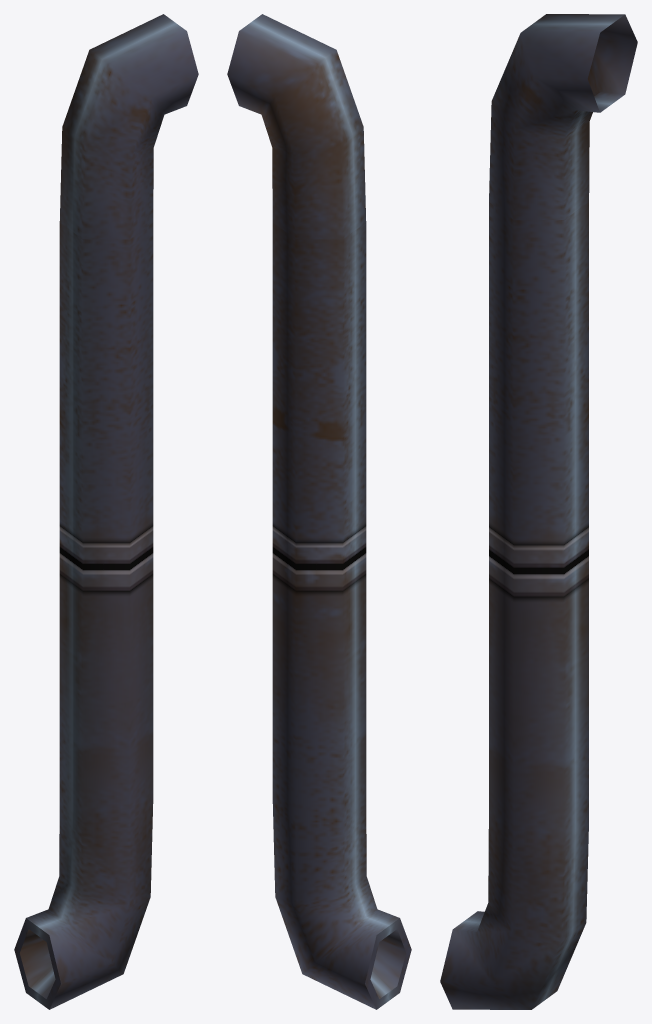
The model's file is rainwaterPipe_3m.fbx.
The picture shows the model from 3 angles, left to right: view 1: azimuth 30°, elevation 25°; view 2: azimuth 150°, elevation 25°; view 3: azimuth 330°, elevation 25°; orthographic projection. The views are drawn at different scales.
Visible parts, largest first — view 1: rainwaterPipe_3m; view 2: rainwaterPipe_3m; view 3: rainwaterPipe_3m.
Part boxes in pixels (x1,y1,x2,y2): rainwaterPipe_3m: [14, 14, 198, 1009]; rainwaterPipe_3m: [227, 14, 411, 1009]; rainwaterPipe_3m: [440, 14, 637, 1009].
Bounding box in the file's own units: 47.77 × 313 × 28.82.
